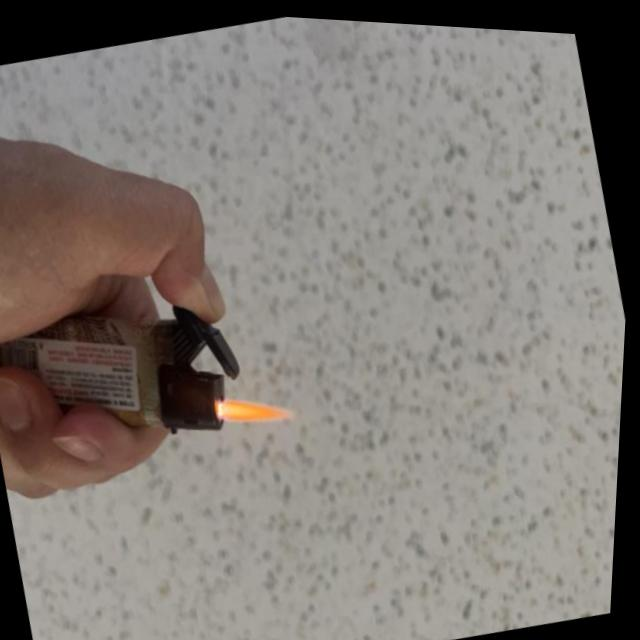Fire: (224, 378, 302, 432)
